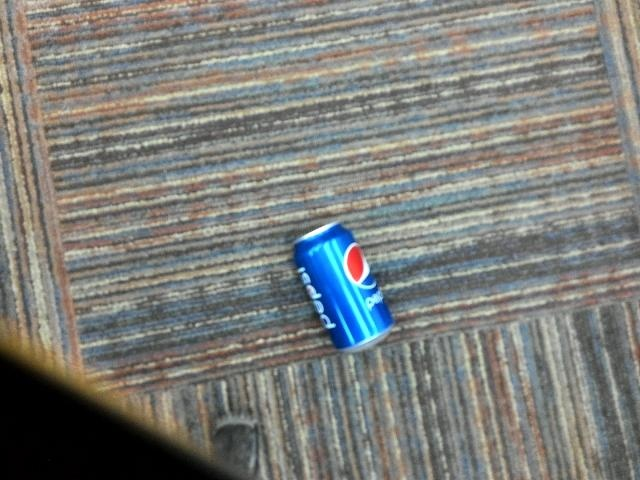can: (283, 213, 406, 375)
